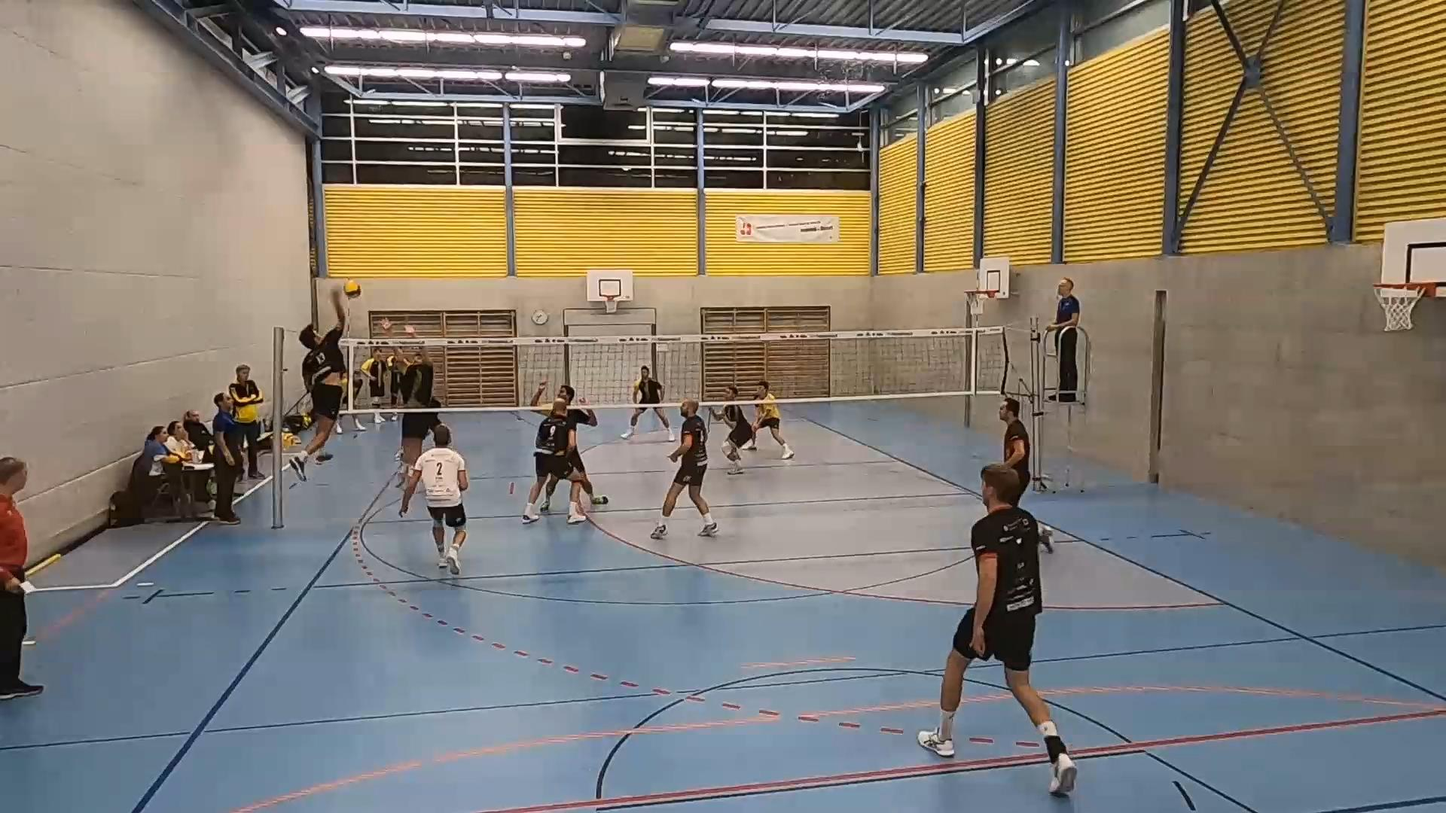Attack: (287, 293, 361, 470)
Block: (374, 314, 442, 518)
Player: (917, 463, 1076, 794), (400, 424, 468, 575), (651, 398, 717, 539), (522, 400, 585, 523), (621, 365, 675, 440), (744, 380, 794, 459), (999, 398, 1032, 505), (709, 403, 753, 474), (555, 385, 597, 428)
ball: (341, 281, 361, 295)
